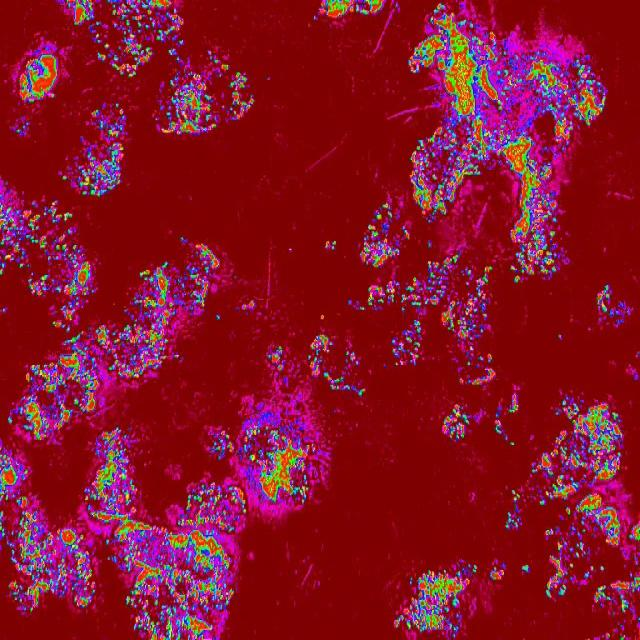fire: (112, 232, 223, 384), (105, 525, 243, 640), (404, 3, 514, 111), (554, 394, 623, 550), (508, 138, 572, 282), (514, 48, 607, 138), (241, 408, 320, 513), (388, 557, 477, 640), (7, 536, 98, 615), (48, 326, 114, 433), (422, 250, 493, 346), (25, 200, 92, 299), (83, 429, 149, 527), (405, 138, 481, 212), (75, 102, 124, 198), (155, 73, 221, 136), (8, 360, 48, 446), (89, 32, 157, 79), (176, 482, 240, 526), (346, 277, 422, 314), (359, 199, 398, 269), (0, 450, 31, 535), (432, 109, 512, 139), (106, 0, 182, 31), (19, 51, 60, 107), (543, 550, 583, 606), (0, 182, 24, 272), (589, 576, 640, 615), (313, 0, 387, 24), (385, 320, 421, 369), (456, 348, 496, 388), (226, 71, 256, 120), (594, 283, 628, 322), (324, 371, 369, 399), (50, 298, 90, 328), (60, 0, 96, 30), (442, 401, 467, 443), (493, 410, 514, 450), (158, 29, 184, 59), (210, 428, 234, 460), (308, 333, 326, 375), (30, 503, 52, 536), (481, 138, 506, 164), (264, 344, 284, 374), (206, 49, 228, 71), (534, 449, 552, 475), (53, 526, 87, 538), (502, 512, 522, 532), (582, 563, 607, 579), (538, 482, 554, 506), (342, 349, 361, 369), (16, 116, 32, 135), (235, 300, 260, 312), (488, 564, 503, 582), (627, 522, 640, 542), (598, 630, 616, 640), (324, 238, 336, 252), (511, 487, 522, 502), (510, 393, 519, 411), (521, 563, 532, 576), (402, 227, 412, 241), (544, 526, 554, 538), (618, 631, 626, 640), (95, 18, 102, 28), (1, 306, 8, 316), (62, 174, 68, 184), (557, 332, 565, 338), (319, 314, 325, 318)
